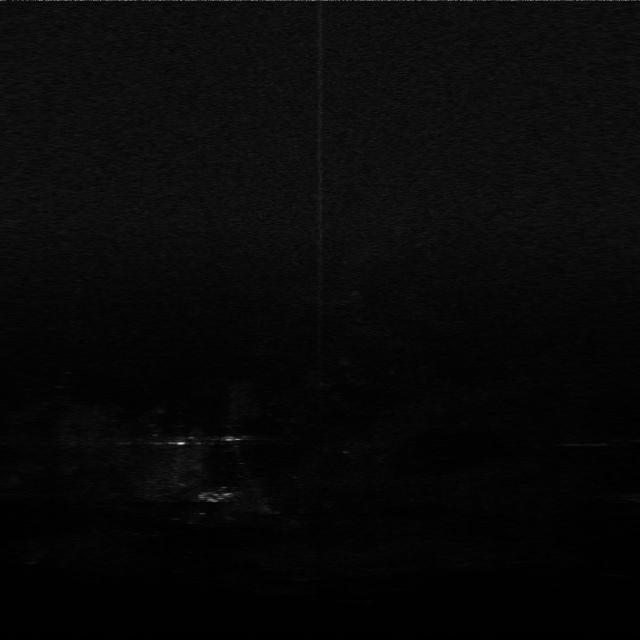rov: (191, 488, 237, 508)
